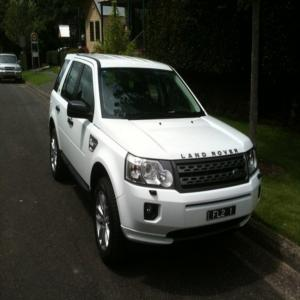Vehicle-registration-plate: (206, 205, 238, 222)
